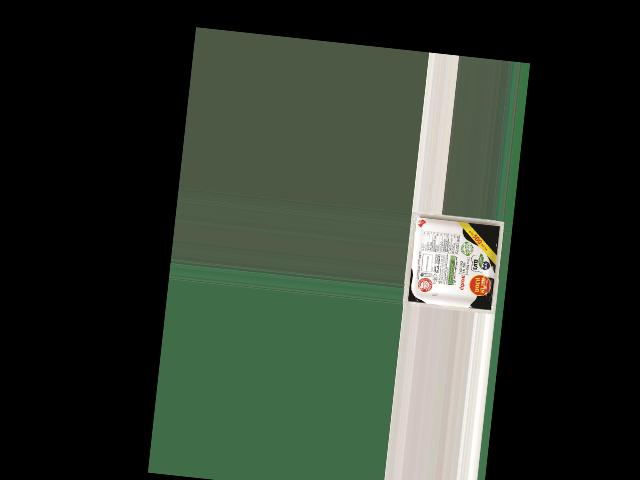cheese: (410, 212, 498, 311)
